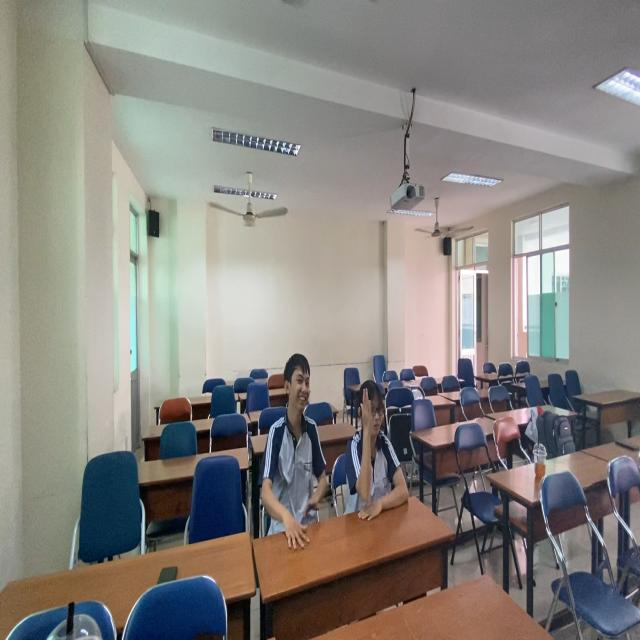raise_hand: (350, 380, 411, 519)
